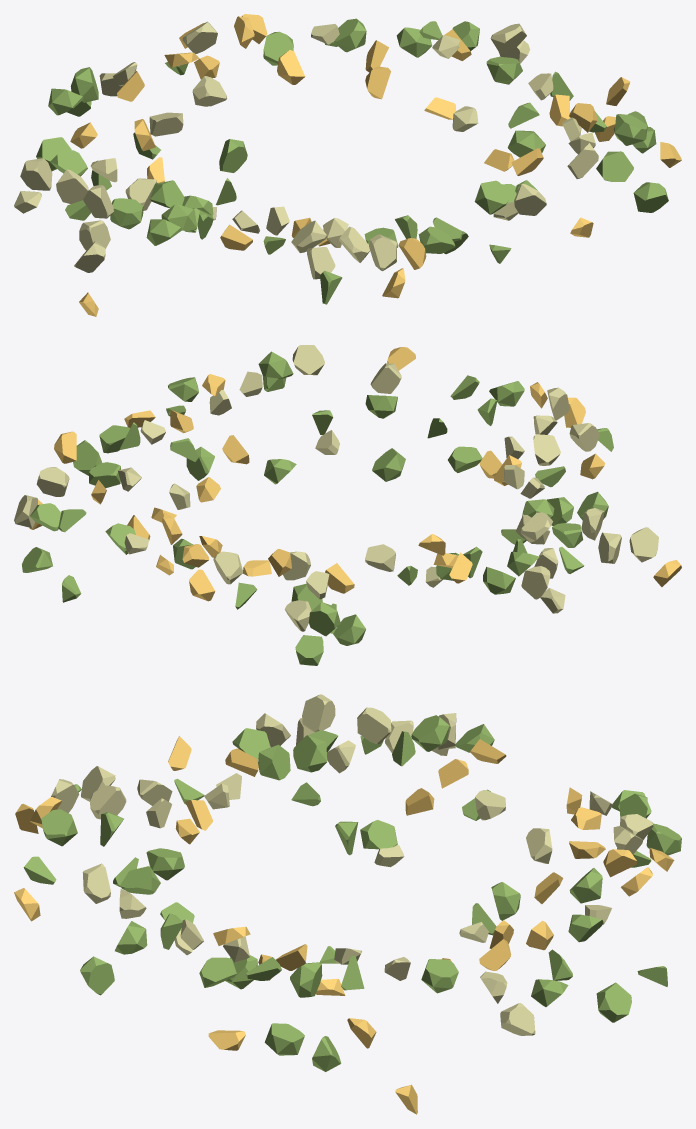
File: pistachio.glb
The picture shows the model from 3 angles, top to bottom: view 1: azimuth 30°, elevation 25°; view 2: azimuth 150°, elevation 25°; view 3: azimuth 270°, elevation 25°; orthographic projection. The views are drawn at different scales.
Visible parts, largest first — view 1: pistachio; view 2: pistachio; view 3: pistachio.
Part boxes in pixels (x1,y1,x2,y2): pistachio: (14, 14, 681, 316); pistachio: (14, 345, 681, 665); pistachio: (14, 694, 681, 1114).
Bounding box in the file's own units: 0.148 × 0.0308 × 0.13.
